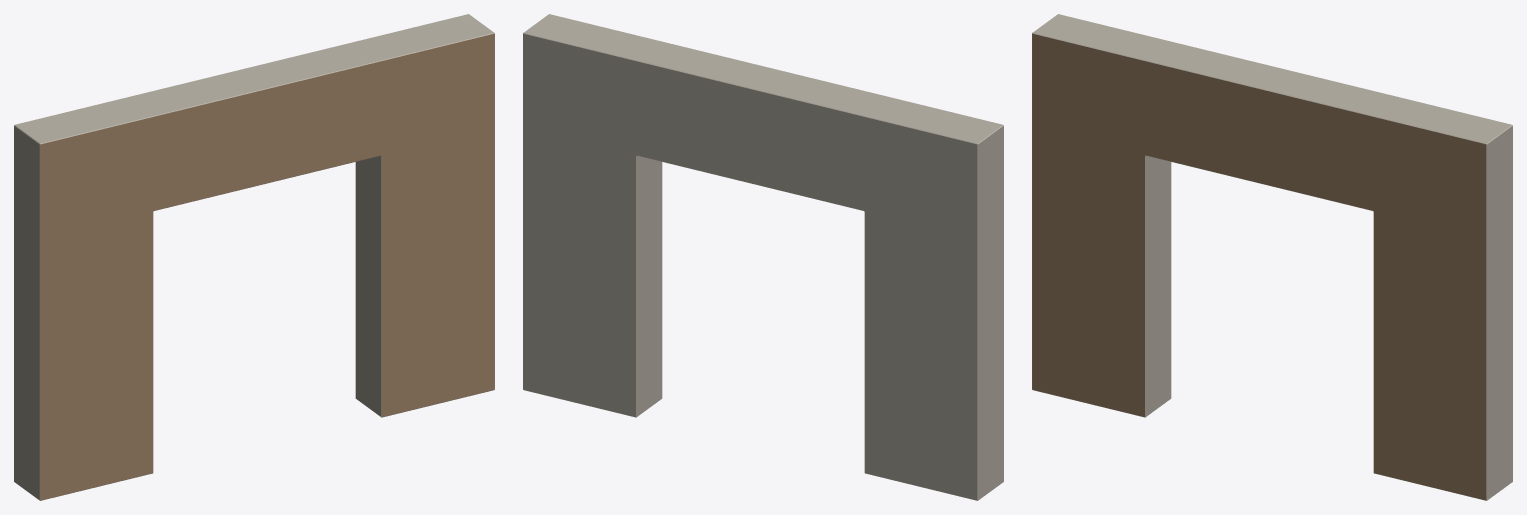
The model's file is arch_wall_ext_door_double_w400_h300.glb.
3 views of the same model, side by side, from view 1: azimuth 30°, elevation 25°; view 2: azimuth 150°, elevation 25°; view 3: azimuth 330°, elevation 25° (orthographic).
Parts seen in each view (by area): view 1: Wall; view 2: Wall; view 3: Wall.
Part boxes in pixels (x1,y1,x2,y2): Wall: (14, 14, 494, 500); Wall: (523, 14, 1003, 500); Wall: (1032, 14, 1512, 500).
Size of what is drawn, in the model's own units: 4 by 3 by 0.4.
